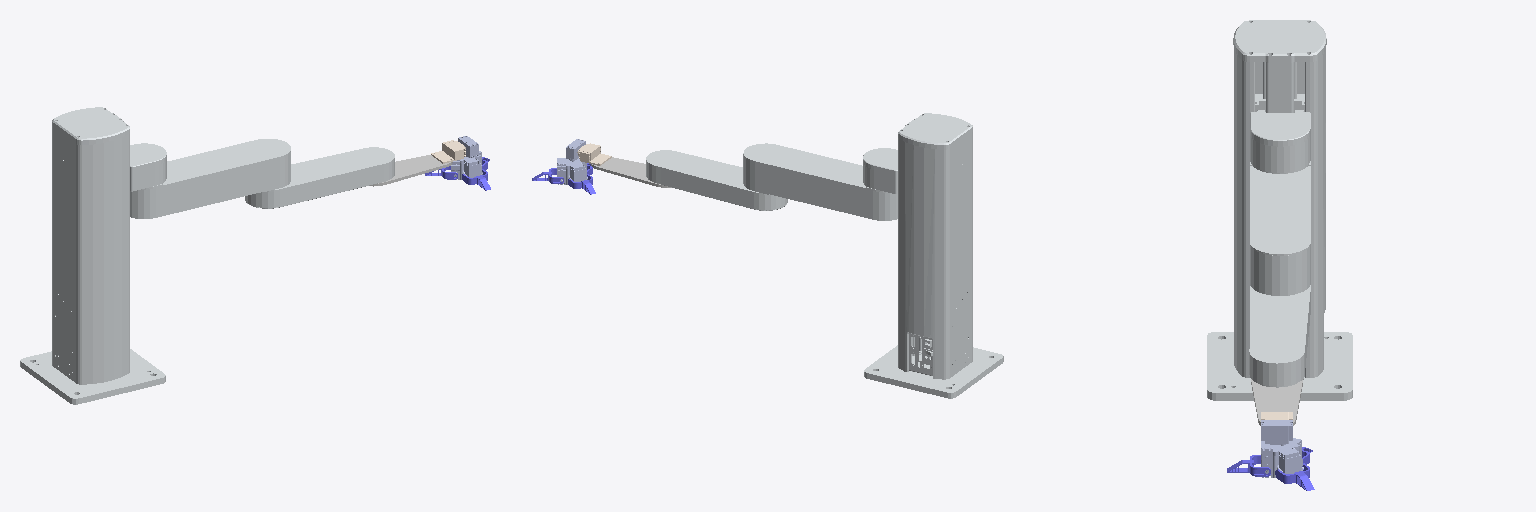
URDF robot description (RobotScaraWithGripper):
<?xml version="1.0" encoding="utf-8"?>
<!-- This URDF was automatically created by SolidWorks to URDF Exporter! Originally created by [author] ([email redacted]) 
     Commit Version: 1.6.0-4-g7f85cfe  Build Version: 1.6.7995.38578
     For more information, please see http://wiki.ros.org/sw_urdf_exporter -->
<robot
  name="RobotScaraWithGripper">
  <link
    name="base_link">
    <inertial>
      <origin
        xyz="-0.15609 -0.0016863 0.25062"
        rpy="0 0 0" />
      <mass
        value="14.052" />
      <inertia
        ixx="0.56351"
        ixy="0.00030413"
        ixz="0.017757"
        iyy="0.56374"
        iyz="-0.0012972"
        izz="0.066772" />
    </inertial>
    <visual>
      <origin
        xyz="0 0 0"
        rpy="0 0 0" />
      <geometry>
        <mesh
          filename="package://RobotScaraWithGripper/meshes/base_link.STL" />
      </geometry>
      <material
        name="">
        <color
          rgba="0.89804 0.91765 0.92941 1" />
      </material>
    </visual>
    <collision>
      <origin
        xyz="0 0 0"
        rpy="0 0 0" />
      <geometry>
        <mesh
          filename="package://RobotScaraWithGripper/meshes/base_link.STL" />
      </geometry>
    </collision>
  </link>
  <link
    name="Link1">
    <inertial>
      <origin
        xyz="-0.056359 2.3516E-10 0"
        rpy="0 0 0" />
      <mass
        value="1.2027" />
      <inertia
        ixx="0.001609"
        ixy="1.8058E-11"
        ixz="0.00018904"
        iyy="0.0057321"
        iyz="6.1535E-12"
        izz="0.0067457" />
    </inertial>
    <visual>
      <origin
        xyz="0 0 0"
        rpy="0 0 0" />
      <geometry>
        <mesh
          filename="package://RobotScaraWithGripper/meshes/Link1.STL" />
      </geometry>
      <material
        name="">
        <color
          rgba="0.89804 0.91765 0.92941 1" />
      </material>
    </visual>
    <collision>
      <origin
        xyz="0 0 0"
        rpy="0 0 0" />
      <geometry>
        <mesh
          filename="package://RobotScaraWithGripper/meshes/Link1.STL" />
      </geometry>
    </collision>
  </link>
  <joint
    name="Joint1"
    type="prismatic">
    <origin
      xyz="0 0 0.30686"
      rpy="0 0 0" />
    <parent
      link="base_link" />
    <child
      link="Link1" />
    <axis
      xyz="0 0 -1" />
    <limit
      lower="0.15"
      upper="-0.15"
      effort="5"
      velocity="0.01" />
  </joint>
  <link
    name="Link2">
    <inertial>
      <origin
        xyz="0.22558 8.8601E-07 0.034559"
        rpy="0 0 0" />
      <mass
        value="1.3921" />
      <inertia
        ixx="0.0023969"
        ixy="1.4147E-07"
        ixz="-8.7167E-05"
        iyy="0.020922"
        iyz="6.8204E-09"
        izz="0.022324" />
    </inertial>
    <visual>
      <origin
        xyz="0 0 0"
        rpy="0 0 0" />
      <geometry>
        <mesh
          filename="package://RobotScaraWithGripper/meshes/Link2.STL" />
      </geometry>
      <material
        name="">
        <color
          rgba="0.89804 0.91765 0.92941 1" />
      </material>
    </visual>
    <collision>
      <origin
        xyz="0 0 0"
        rpy="0 0 0" />
      <geometry>
        <mesh
          filename="package://RobotScaraWithGripper/meshes/Link2.STL" />
      </geometry>
    </collision>
  </link>
  <joint
    name="Joint2"
    type="revolute">
    <origin
      xyz="0 0 0"
      rpy="0 0 0" />
    <parent
      link="Link1" />
    <child
      link="Link2" />
    <axis
      xyz="0 0 -1" />
    <limit
      lower="-2.87"
      upper="2.87"
      effort="0.5"
      velocity="0.01" />
  </joint>
  <link
    name="Link3">
    <inertial>
      <origin
        xyz="0.15992 -0.003251 0.031489"
        rpy="0 0 0" />
      <mass
        value="0.82346" />
      <inertia
        ixx="0.00097691"
        ixy="0.00011852"
        ixz="-5.1942E-07"
        iyy="0.006861"
        iyz="7.7427E-08"
        izz="0.0077311" />
    </inertial>
    <visual>
      <origin
        xyz="0 0 0"
        rpy="0 0 0" />
      <geometry>
        <mesh
          filename="package://RobotScaraWithGripper/meshes/Link3.STL" />
      </geometry>
      <material
        name="">
        <color
          rgba="0.89804 0.91765 0.92941 1" />
      </material>
    </visual>
    <collision>
      <origin
        xyz="0 0 0"
        rpy="0 0 0" />
      <geometry>
        <mesh
          filename="package://RobotScaraWithGripper/meshes/Link3.STL" />
      </geometry>
    </collision>
  </link>
  <joint
    name="Joint3"
    type="revolute">
    <origin
      xyz="0.325 0 0"
      rpy="0 0 0" />
    <parent
      link="Link2" />
    <child
      link="Link3" />
    <axis
      xyz="0 0 -1" />
    <limit
      lower="-3.1415"
      upper="3.1415"
      effort="0.5"
      velocity="0.01" />
  </joint>
  <link
    name="Link4">
    <inertial>
      <origin
        xyz="0.081298 -3.1739E-13 0.0031854"
        rpy="0 0 0" />
      <mass
        value="0.26408" />
      <inertia
        ixx="0.00013535"
        ixy="1.0514E-15"
        ixz="-6.7538E-06"
        iyy="0.0010714"
        iyz="2.6377E-17"
        izz="0.0012047" />
    </inertial>
    <visual>
      <origin
        xyz="0 0 0"
        rpy="0 0 0" />
      <geometry>
        <mesh
          filename="package://RobotScaraWithGripper/meshes/Link4.STL" />
      </geometry>
      <material
        name="">
        <color
          rgba="0.84706 0.84706 0.84706 1" />
      </material>
    </visual>
    <collision>
      <origin
        xyz="0 0 0"
        rpy="0 0 0" />
      <geometry>
        <mesh
          filename="package://RobotScaraWithGripper/meshes/Link4.STL" />
      </geometry>
    </collision>
  </link>
  <joint
    name="Joint4"
    type="revolute">
    <origin
      xyz="0.27494 -0.0055 0"
      rpy="0 0 0" />
    <parent
      link="Link3" />
    <child
      link="Link4" />
    <axis
      xyz="0 0 1" />
    <limit
      lower="-3.1415"
      upper="3.1415"
      effort="0.5"
      velocity="0.01" />
  </joint>
  <link
    name="gripper_base_link">
    <inertial>
      <origin
        xyz="0 0 0"
        rpy="0 0 0" />
      <mass
        value="0.0037324" />
      <inertia
        ixx="5.9097E-08"
        ixy="3.9728E-36"
        ixz="-7.5499E-24"
        iyy="5.9097E-08"
        iyz="-1.1452E-24"
        izz="5.5988E-08" />
    </inertial>
    <visual>
      <origin
        xyz="0 0 0"
        rpy="0 0 0" />
      <geometry>
        <mesh
          filename="package://RobotScaraWithGripper/meshes/gripper_base_link.STL" />
      </geometry>
      <material
        name="">
        <color
          rgba="1 0.94902 0.89804 1" />
      </material>
    </visual>
    <collision>
      <origin
        xyz="0 0 0"
        rpy="0 0 0" />
      <geometry>
        <mesh
          filename="package://RobotScaraWithGripper/meshes/gripper_base_link.STL" />
      </geometry>
    </collision>
  </link>
  <joint
    name="Joint5"
    type="fixed">
    <origin
      xyz="0.165 0 0.012"
      rpy="0 0 1.5708" />
    <parent
      link="Link4" />
    <child
      link="gripper_base_link" />
    <axis
      xyz="0 0 0" />
  </joint>
 
 <link
    name="gripper_pitch_link">
    <inertial>
      <origin
        xyz="-0.00983894571063188 -0.00352826915496522 0.0123556825487463"
        rpy="0 0 0" />
      <mass
        value="0.0409184168489891" />
      <inertia
        ixx="5.40954338049232E-06"
        ixy="1.36606087520665E-07"
        ixz="-7.01970060019843E-09"
        iyy="1.05805787497656E-05"
        iyz="1.45220691704708E-10"
        izz="1.28177523495093E-05" />
    </inertial>
    <visual>
      <origin
        xyz="0 0 0"
        rpy="0 0 0" />
      <geometry>
        <mesh
          filename="package://RobotScaraWithGripper/meshes/gripper_pitch_link.STL" />
      </geometry>
      <material
        name="">
        <color
          rgba="0.792156862745098 0.819607843137255 0.933333333333333 1" />
      </material>
    </visual>
    <collision>
      <origin
        xyz="0 0 0"
        rpy="0 0 0" />
      <geometry>
        <mesh
          filename="package://RobotScaraWithGripper/meshes/gripper_pitch_link.STL" />
      </geometry>
    </collision>
  </link>
  <joint
    name="GripperPitch"
    type="revolute">
    <origin
      xyz="0.00947499999999989 -0.0705000000000001 0.00999999999999999"
      rpy="1.57079632679491 0 0" />
    <parent
      link="gripper_base_link" />
    <child
      link="gripper_pitch_link" />
    <axis
      xyz="0 0 1" />
    <limit
      lower="-1.507"
      upper="1.507"
      effort="10"
      velocity="0.1" />
  </joint>
  <link
    name="gripper_base">
    <inertial>
      <origin
        xyz="5.16747092164926E-11 -3.42592151912971E-10 -0.0260183093277326"
        rpy="0 0 0" />
      <mass
        value="0.141117006524258" />
      <inertia
        ixx="4.25057513922627E-05"
        ixy="6.26711193622089E-14"
        ixz="1.24399989908209E-13"
        iyy="4.25057521933406E-05"
        iyz="-6.9717451505908E-14"
        izz="4.06101129946479E-05" />
    </inertial>
    <visual>
      <origin
        xyz="0 0 0"
        rpy="0 0 0" />
      <geometry>
        <mesh
          filename="package://RobotScaraWithGripper/meshes/gripper_base.STL" />
      </geometry>
      <material
        name="">
        <color
          rgba="0.792156862745098 0.819607843137255 0.933333333333333 1" />
      </material>
    </visual>
    <collision>
      <origin
        xyz="0 0 0"
        rpy="0 0 0" />
      <geometry>
        <mesh
          filename="package://RobotScaraWithGripper/meshes/gripper_base.STL" />
      </geometry>
    </collision>
  </link>
  <joint
    name="GripperYaw"
    type="revolute">
    <origin
      xyz="0 -0.0284999999999997 0.0140000000000001"
      rpy="1.57079632679491 0.523598775598298 -3.14159265358979" />
    <parent
      link="gripper_pitch_link" />
    <child
      link="gripper_base" />
    <axis
      xyz="0 0 -1" />
    <limit
      lower="-1.507"
      upper="1.507"
      effort="10"
      velocity="0.1" />
  </joint>
  <link
    name="G1">
    <inertial>
      <origin
        xyz="-0.00817463418487539 -0.000749619730026553 -0.036869107115067"
        rpy="0 0 0" />
      <mass
        value="0.00987886598007678" />
      <inertia
        ixx="2.44226344454493E-06"
        ixy="-6.56179534092328E-08"
        ixz="7.26249066264972E-07"
        iyy="3.95715478637953E-06"
        iyz="-3.78845430644684E-08"
        izz="2.01448096313555E-06" />
    </inertial>
    <visual>
      <origin
        xyz="0 0 0"
        rpy="0 0 0" />
      <geometry>
        <mesh
          filename="package://RobotScaraWithGripper/meshes/G1.STL" />
      </geometry>
      <material
        name="">
        <color
          rgba="0.501960784313725 0.501960784313725 1 1" />
      </material>
    </visual>
    <collision>
      <origin
        xyz="0 0 0"
        rpy="0 0 0" />
      <geometry>
        <mesh
          filename="package://RobotScaraWithGripper/meshes/G1.STL" />
      </geometry>
    </collision>
  </link>
  <joint
    name="GripperJoint1"
    type="revolute">
    <origin
      xyz="-0.0362777674951481 -0.00950160315817182 -0.0379249999961821"
      rpy="1.57079632679489 0 0" />
    <parent
      link="gripper_base" />
    <child
      link="G1" />
    <axis
      xyz="0.499999999999994 0 -0.866025403784442" />
    <limit
      lower="-1.7"
      upper="0"
      effort="10"
      velocity="0.1" />
  </joint>
  <link
    name="G2">
    <inertial>
      <origin
        xyz="-0.02551399442828 -0.000749619730027212 -0.0278422662840602"
        rpy="0 0 0" />
      <mass
        value="0.00987886598007678" />
      <inertia
        ixx="2.96426796505278E-06"
        ixy="-7.57690861289869E-08"
        ixz="1.77889285035265E-07"
        iyy="3.95715478637953E-06"
        iyz="-3.85763753128362E-22"
        izz="1.4924764426277E-06" />
    </inertial>
    <visual>
      <origin
        xyz="0 0 0"
        rpy="0 0 0" />
      <geometry>
        <mesh
          filename="package://RobotScaraWithGripper/meshes/G2.STL" />
      </geometry>
      <material
        name="">
        <color
          rgba="0.501960784313725 0.501960784313725 1 1" />
      </material>
    </visual>
    <collision>
      <origin
        xyz="0 0 0"
        rpy="0 0 0" />
      <geometry>
        <mesh
          filename="package://RobotScaraWithGripper/meshes/G2.STL" />
      </geometry>
    </collision>
  </link>
  <joint
    name="GripperJoint2"
    type="revolute">
    <origin
      xyz="0.0263675134592286 -0.0266666666642979 -0.0379249999961821"
      rpy="1.5707963267949 0 1.5707963267949" />
    <parent
      link="gripper_base" />
    <child
      link="G2" />
    <axis
      xyz="0 0 -1" />
    <limit
      lower="-1.7"
      upper="0"
      effort="10"
      velocity="0.1" />
  </joint>
  <link
    name="G3">
    <inertial>
      <origin
        xyz="-0.0255139944282799 -0.000749619730026935 -0.0278422662840602"
        rpy="0 0 0" />
      <mass
        value="0.00987886598007678" />
      <inertia
        ixx="2.96426796505279E-06"
        ixy="-7.57690861289889E-08"
        ixz="1.77889285035268E-07"
        iyy="3.95715478637953E-06"
        iyz="2.32441238522946E-20"
        izz="1.49247644262771E-06" />
    </inertial>
    <visual>
      <origin
        xyz="0 0 0"
        rpy="0 0 0" />
      <geometry>
        <mesh
          filename="package://RobotScaraWithGripper/meshes/G3.STL" />
      </geometry>
      <material
        name="">
        <color
          rgba="0.501960784313725 0.501960784313725 1 1" />
      </material>
    </visual>
    <collision>
      <origin
        xyz="0 0 0"
        rpy="0 0 0" />
      <geometry>
        <mesh
          filename="package://RobotScaraWithGripper/meshes/G3.STL" />
      </geometry>
    </collision>
  </link>
  <joint
    name="GripperJoint3"
    type="revolute">
    <origin
      xyz="0.0099102540359187 0.0361682698224692 -0.0379249999961821"
      rpy="1.57079632679489 0 -2.61799387799149" />
    <parent
      link="gripper_base" />
    <child
      link="G3" />
    <axis
      xyz="0 0 -1" />
    <limit
      lower="-1.7"
      upper="0"
      effort="10"
      velocity="0.1" />
  </joint>
</robot>

--- What the picture shows (computed from the rendered views, not written in the file) ---
The picture shows the robot from 3 angles, left to right: view 1: azimuth 30°, elevation 25°; view 2: azimuth 150°, elevation 25°; view 3: azimuth 270°, elevation 25°; orthographic projection.
Robot: RobotScaraWithGripper — 11 links, 10 joints (8 revolute, 1 prismatic, 1 fixed); root link base_link; default pose: every joint at zero.
Links seen in each view (by area): view 1: base_link, Link2, Link3, Link1, Link4, gripper_base, gripper_base_link; view 2: base_link, Link2, Link3, Link1, Link4, gripper_base; view 3: base_link, Link2, Link3, Link1, Link4, gripper_base, gripper_pitch_link.
Link boxes in pixels (x1=…): base_link: x1=20, y1=107, x2=165, y2=404; Link2: x1=130, y1=139, x2=290, y2=218; Link3: x1=245, y1=147, x2=394, y2=208; Link1: x1=130, y1=143, x2=166, y2=191; Link4: x1=370, y1=155, x2=452, y2=186; gripper_base: x1=451, y1=151, x2=482, y2=179; gripper_base_link: x1=431, y1=140, x2=465, y2=163; base_link: x1=864, y1=113, x2=1003, y2=398; Link2: x1=743, y1=143, x2=897, y2=220; Link3: x1=646, y1=150, x2=787, y2=210; Link1: x1=863, y1=148, x2=897, y2=193; Link4: x1=591, y1=157, x2=670, y2=187; gripper_base: x1=557, y1=158, x2=587, y2=184; base_link: x1=1207, y1=20, x2=1352, y2=400; Link2: x1=1250, y1=161, x2=1310, y2=295; Link3: x1=1249, y1=285, x2=1310, y2=387; Link1: x1=1250, y1=94, x2=1310, y2=173; Link4: x1=1251, y1=379, x2=1303, y2=425; gripper_base: x1=1261, y1=438, x2=1303, y2=477; gripper_pitch_link: x1=1261, y1=420, x2=1292, y2=445.
Bounding box of the posed robot: 1.19 × 0.25 × 0.63 m (x, y, z).
Meshes: 11 distinct files referenced, 11 mesh visuals loaded (11 binary STL).